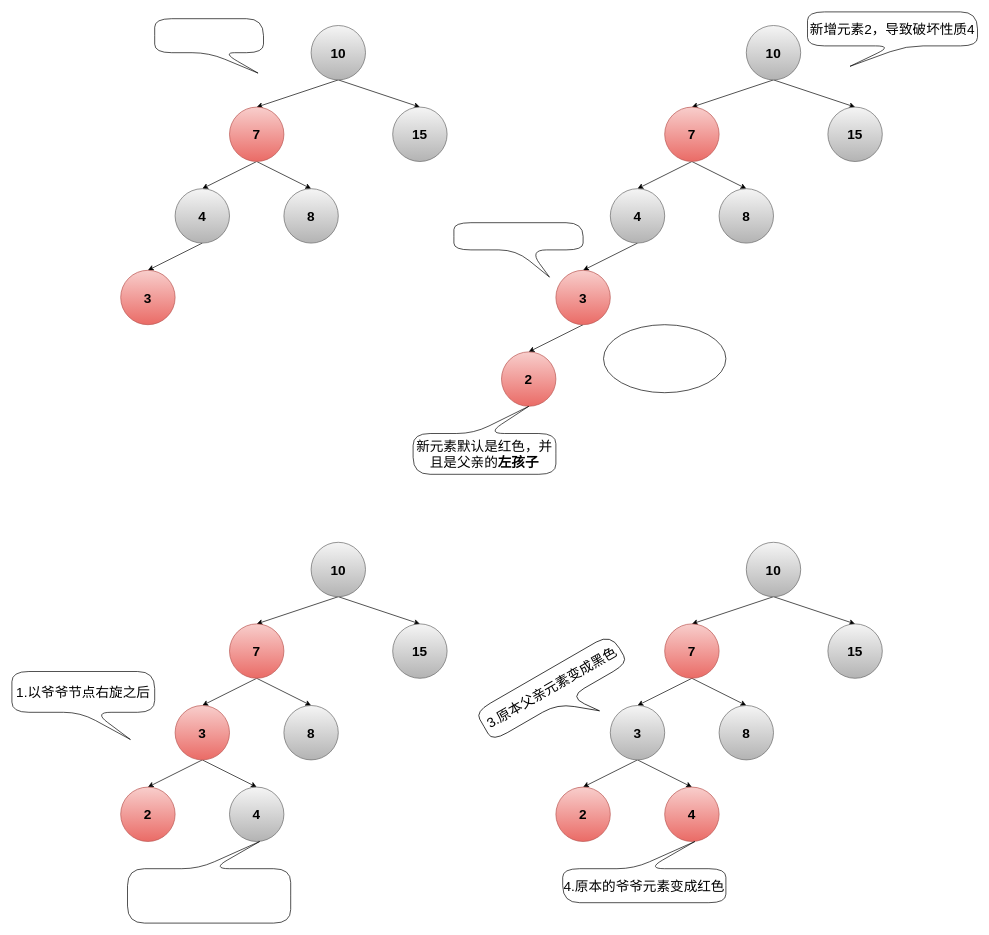
Some shapes in this 989 by 935 pixel diagram are drawn without their labels. Each missing label, with the box of its shape:
2.原本的爷爷元素通过右旋变成 元素2父亲的右子元素: (127, 841, 291, 923)
已是平衡状态: (154, 18, 264, 73)
父亲是爷爷的 左孩子: (453, 222, 583, 277)
这种情况属于左左: (603, 324, 726, 393)
